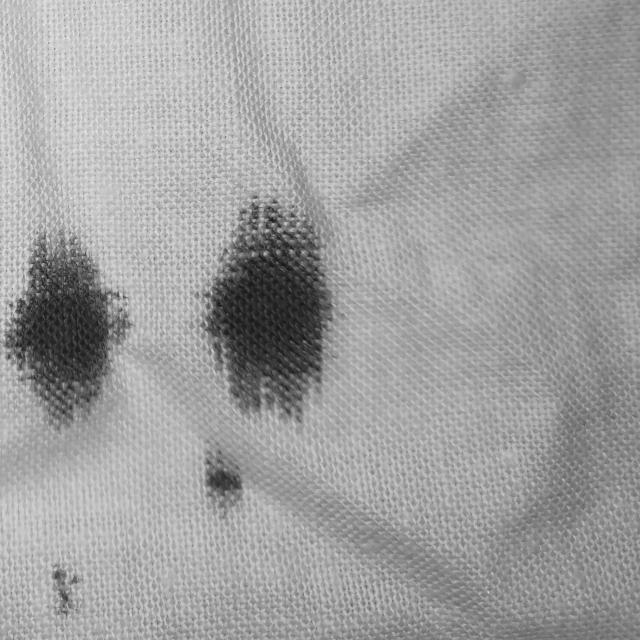Stain: (203, 196, 332, 421), (3, 230, 129, 430), (204, 450, 242, 518), (50, 565, 80, 616)
